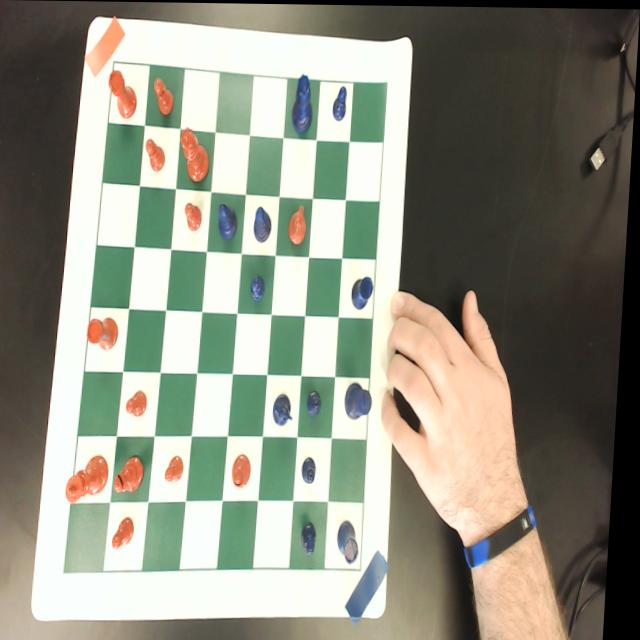B: (219, 202, 241, 241), (256, 205, 276, 242)
K: (348, 379, 378, 420)
N: (275, 388, 299, 428)
P: (333, 83, 350, 121), (306, 521, 324, 555), (310, 388, 328, 419), (307, 455, 323, 483), (253, 274, 269, 302)
Q: (293, 73, 315, 132)
R: (342, 517, 367, 565), (355, 273, 378, 309)
b: (119, 455, 151, 493), (237, 453, 257, 487)
k: (71, 454, 115, 505)
n: (290, 203, 311, 247)
p: (153, 76, 177, 116), (118, 515, 141, 549), (147, 137, 168, 172), (130, 388, 153, 416), (186, 201, 206, 231), (171, 454, 190, 483)
q: (179, 128, 213, 182)
r: (108, 69, 140, 119), (90, 316, 123, 351)
